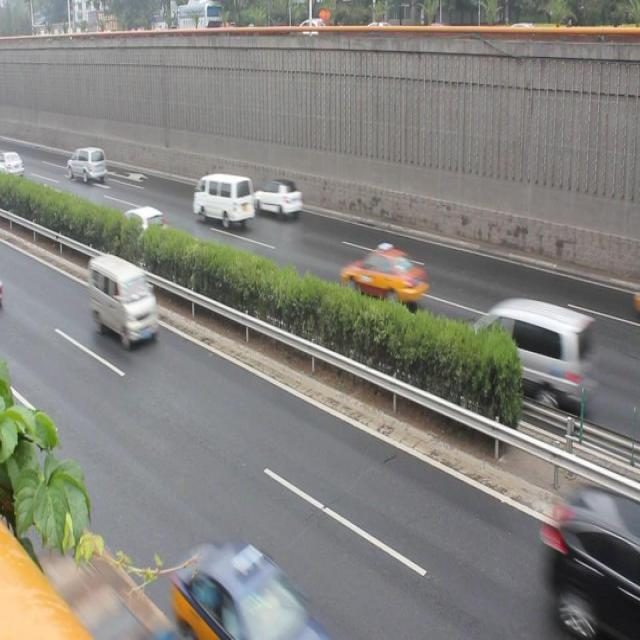car: (530, 470, 640, 640), (168, 537, 331, 640), (31, 528, 180, 640), (339, 234, 427, 312), (252, 173, 303, 226), (123, 196, 170, 250)
truck: (464, 286, 595, 396), (85, 244, 158, 352), (191, 163, 257, 232)
